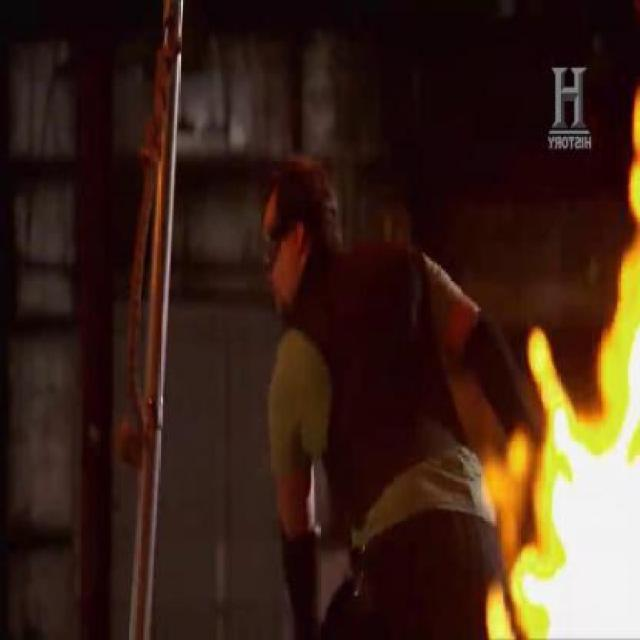Fire: (489, 246, 640, 638), (630, 84, 638, 323)
